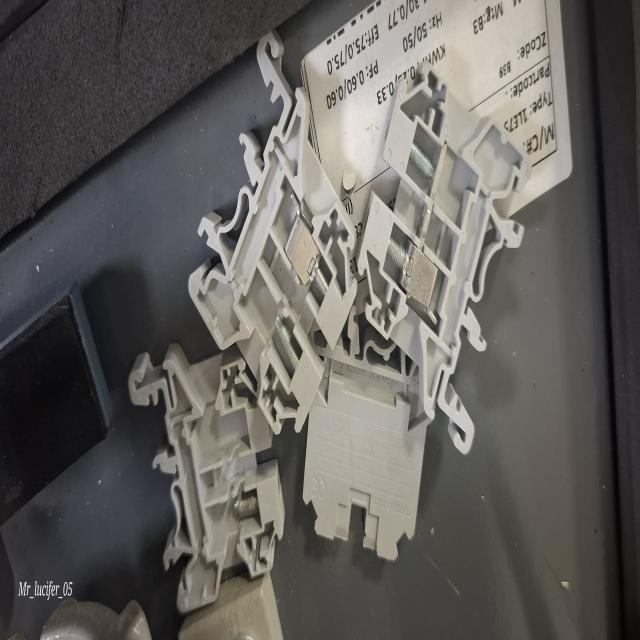Inverted: (300, 336, 430, 570)
Reject: (354, 67, 526, 460), (188, 30, 358, 426), (126, 346, 288, 601)
